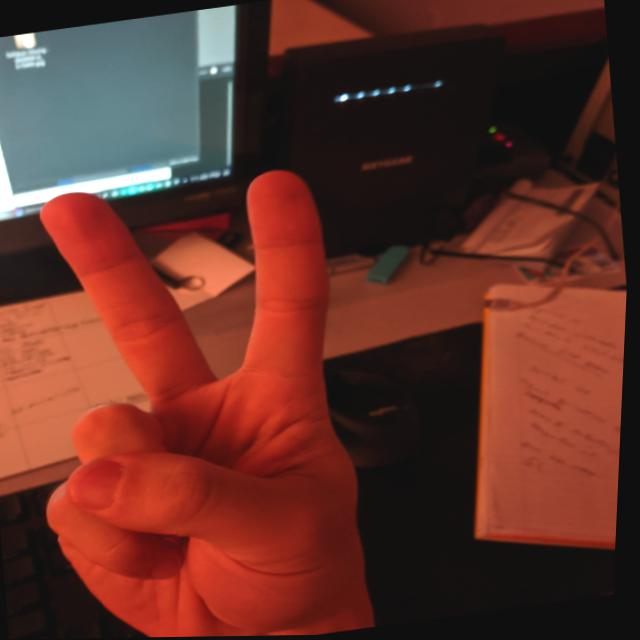V: (0, 144, 409, 639)
